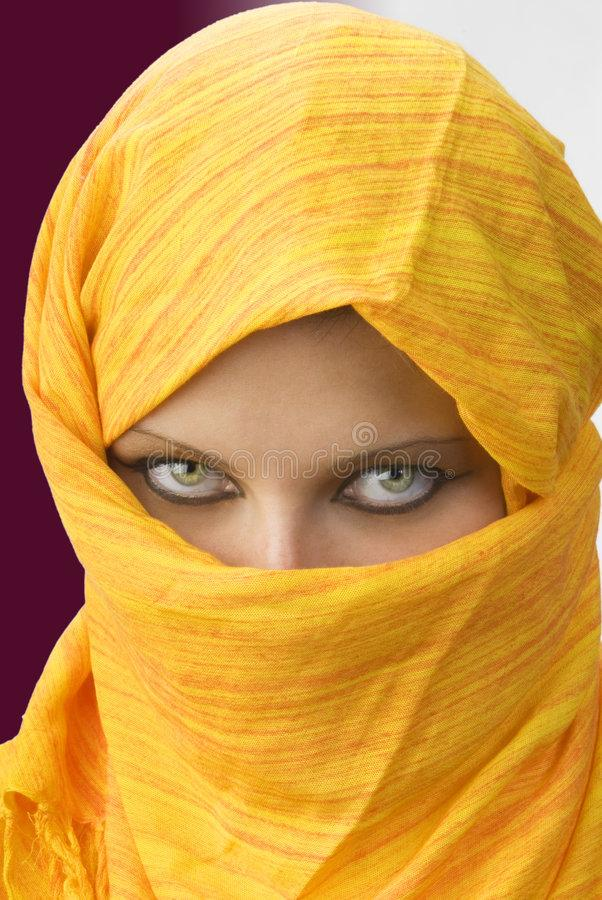No Mask: (57, 140, 596, 748)
